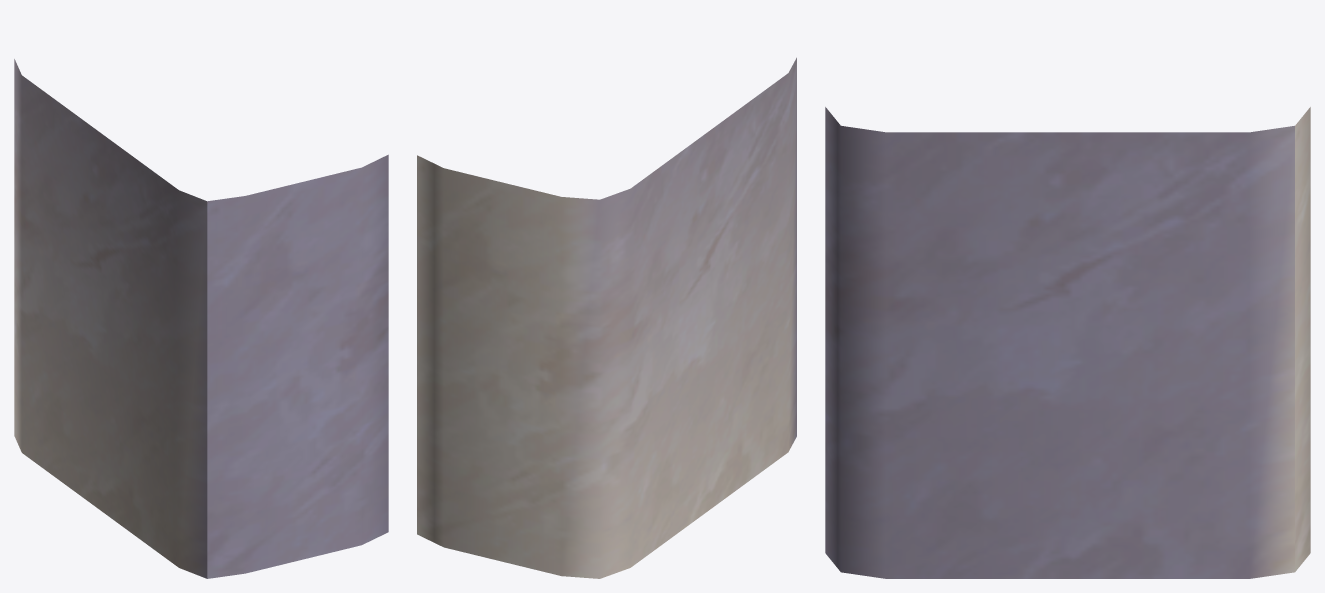
3 renders of one model, left to right at view 1: azimuth 30°, elevation 25°; view 2: azimuth 150°, elevation 25°; view 3: azimuth 270°, elevation 25°, orthographic. The views are drawn at different scales.
Visible parts, largest first — view 1: Joint_0_Object_0; view 2: Joint_0_Object_0; view 3: Joint_0_Object_0.
Part boxes in pixels (x1=…): Joint_0_Object_0: x1=14, y1=59, x2=388, y2=578; Joint_0_Object_0: x1=417, y1=57, x2=796, y2=578; Joint_0_Object_0: x1=825, y1=107, x2=1310, y2=578.
Size of the model in its own units: 206 by 363 by 357.
1 material, 1 textured.
